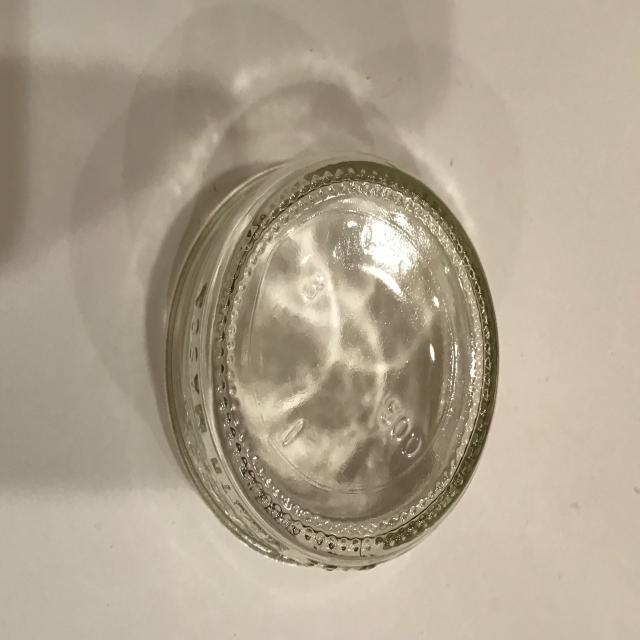glass: (163, 152, 500, 571)
